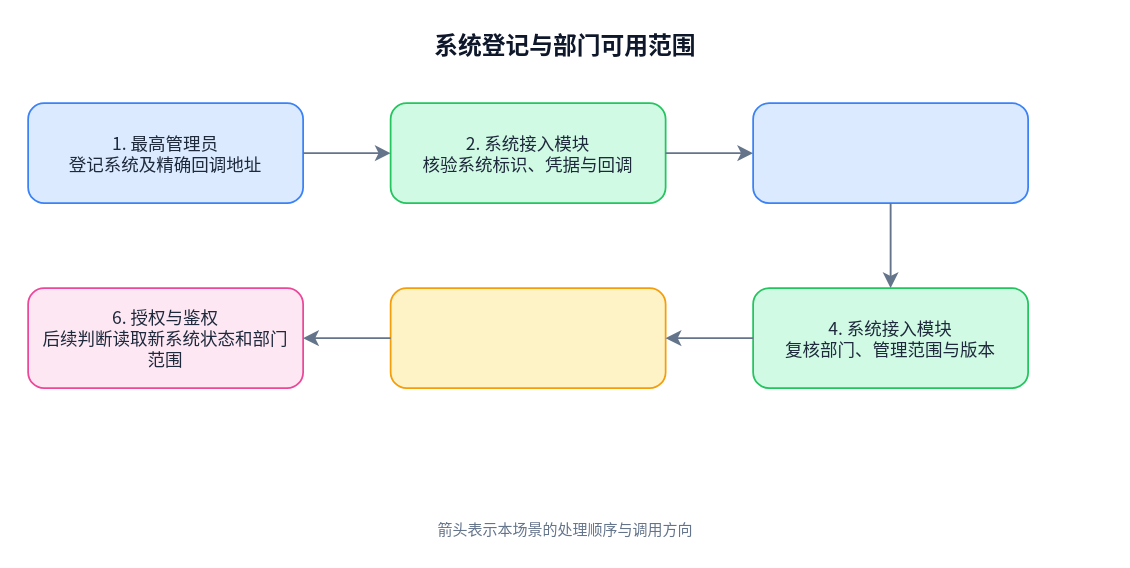
The diagram is 1130 pixels wide and 568 high, and some of its shapes have lost their labels. The shapes that lost their labels are listed below. From the top down, each one's centre as x and y in pixels, then its label:
At point (890, 152): "3. 最高管理员 选择并提交可用部门集合".
At point (527, 337): "5. 接入 + 审计 系统及范围变更与审计同事务保存".
